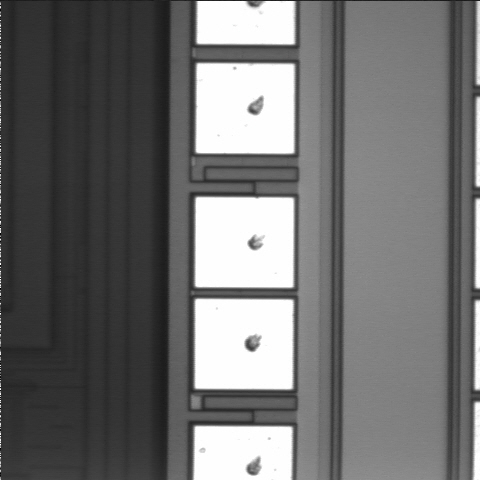pad: (195, 197, 294, 288), (196, 63, 294, 154), (195, 299, 293, 389)
